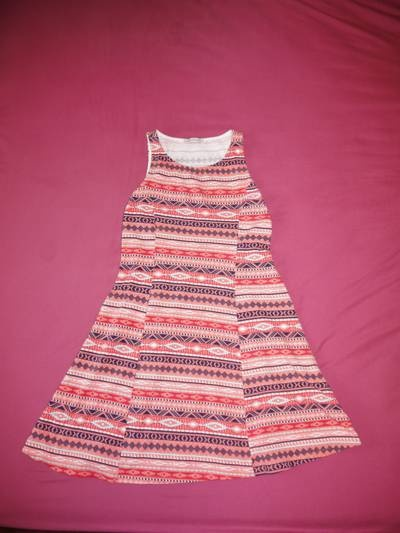Dress: (19, 112, 373, 496)
